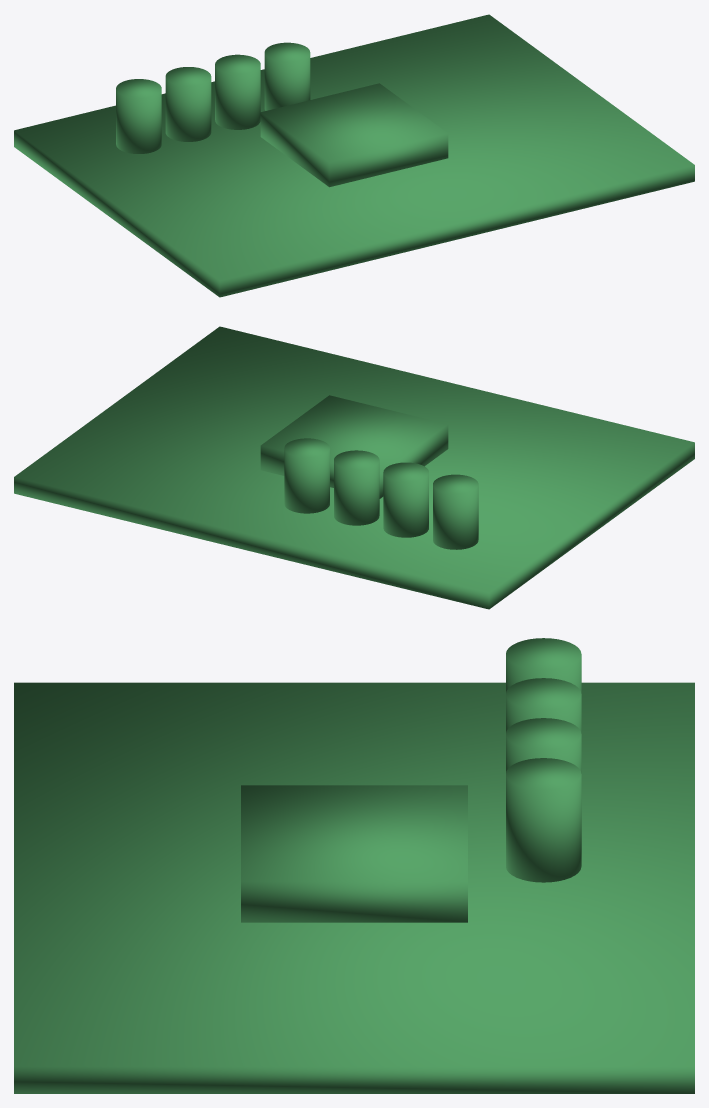
File: SM_Scrap_Electronics.fbx
The picture shows the model from 3 angles, top to bottom: view 1: azimuth 30°, elevation 25°; view 2: azimuth 150°, elevation 25°; view 3: azimuth 270°, elevation 25°; orthographic projection. The views are drawn at different scales.
Visible parts, largest first — view 1: SM_Scrap_Electronics; view 2: SM_Scrap_Electronics; view 3: SM_Scrap_Electronics.
Boxes of the visible parts, left/top/right/bottom form: SM_Scrap_Electronics: left=14, top=14, right=694, bottom=297; SM_Scrap_Electronics: left=14, top=326, right=694, bottom=609; SM_Scrap_Electronics: left=14, top=638, right=694, bottom=1093.
Size of the model in its own units: 24 by 3.5 by 18.
